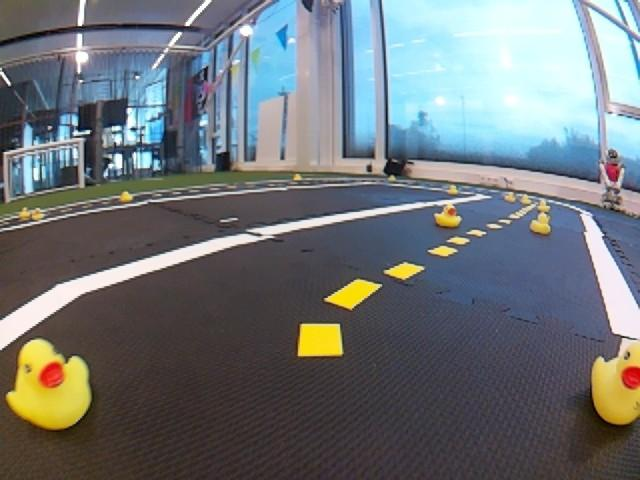Duckies: (4, 337, 94, 431), (590, 340, 640, 426), (432, 204, 463, 227), (529, 213, 552, 235), (536, 200, 550, 213), (31, 207, 44, 219), (120, 191, 134, 202), (18, 207, 30, 219), (520, 195, 533, 205), (505, 193, 517, 203), (447, 185, 458, 195), (292, 173, 302, 181), (388, 174, 396, 182)
